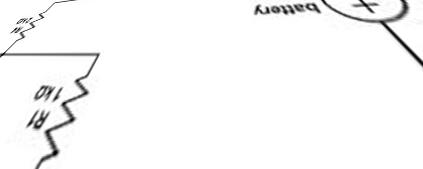resistor: (41, 70, 106, 157), (18, 10, 48, 38)
